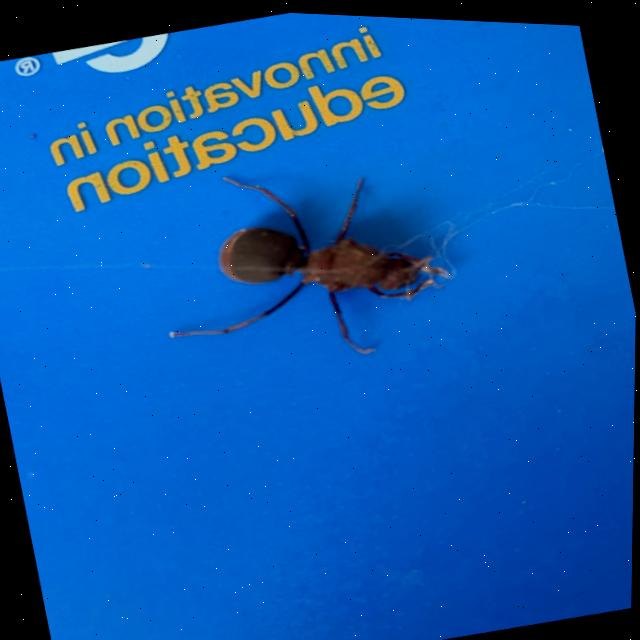Alive-Female-Dealate: (138, 127, 466, 394)
